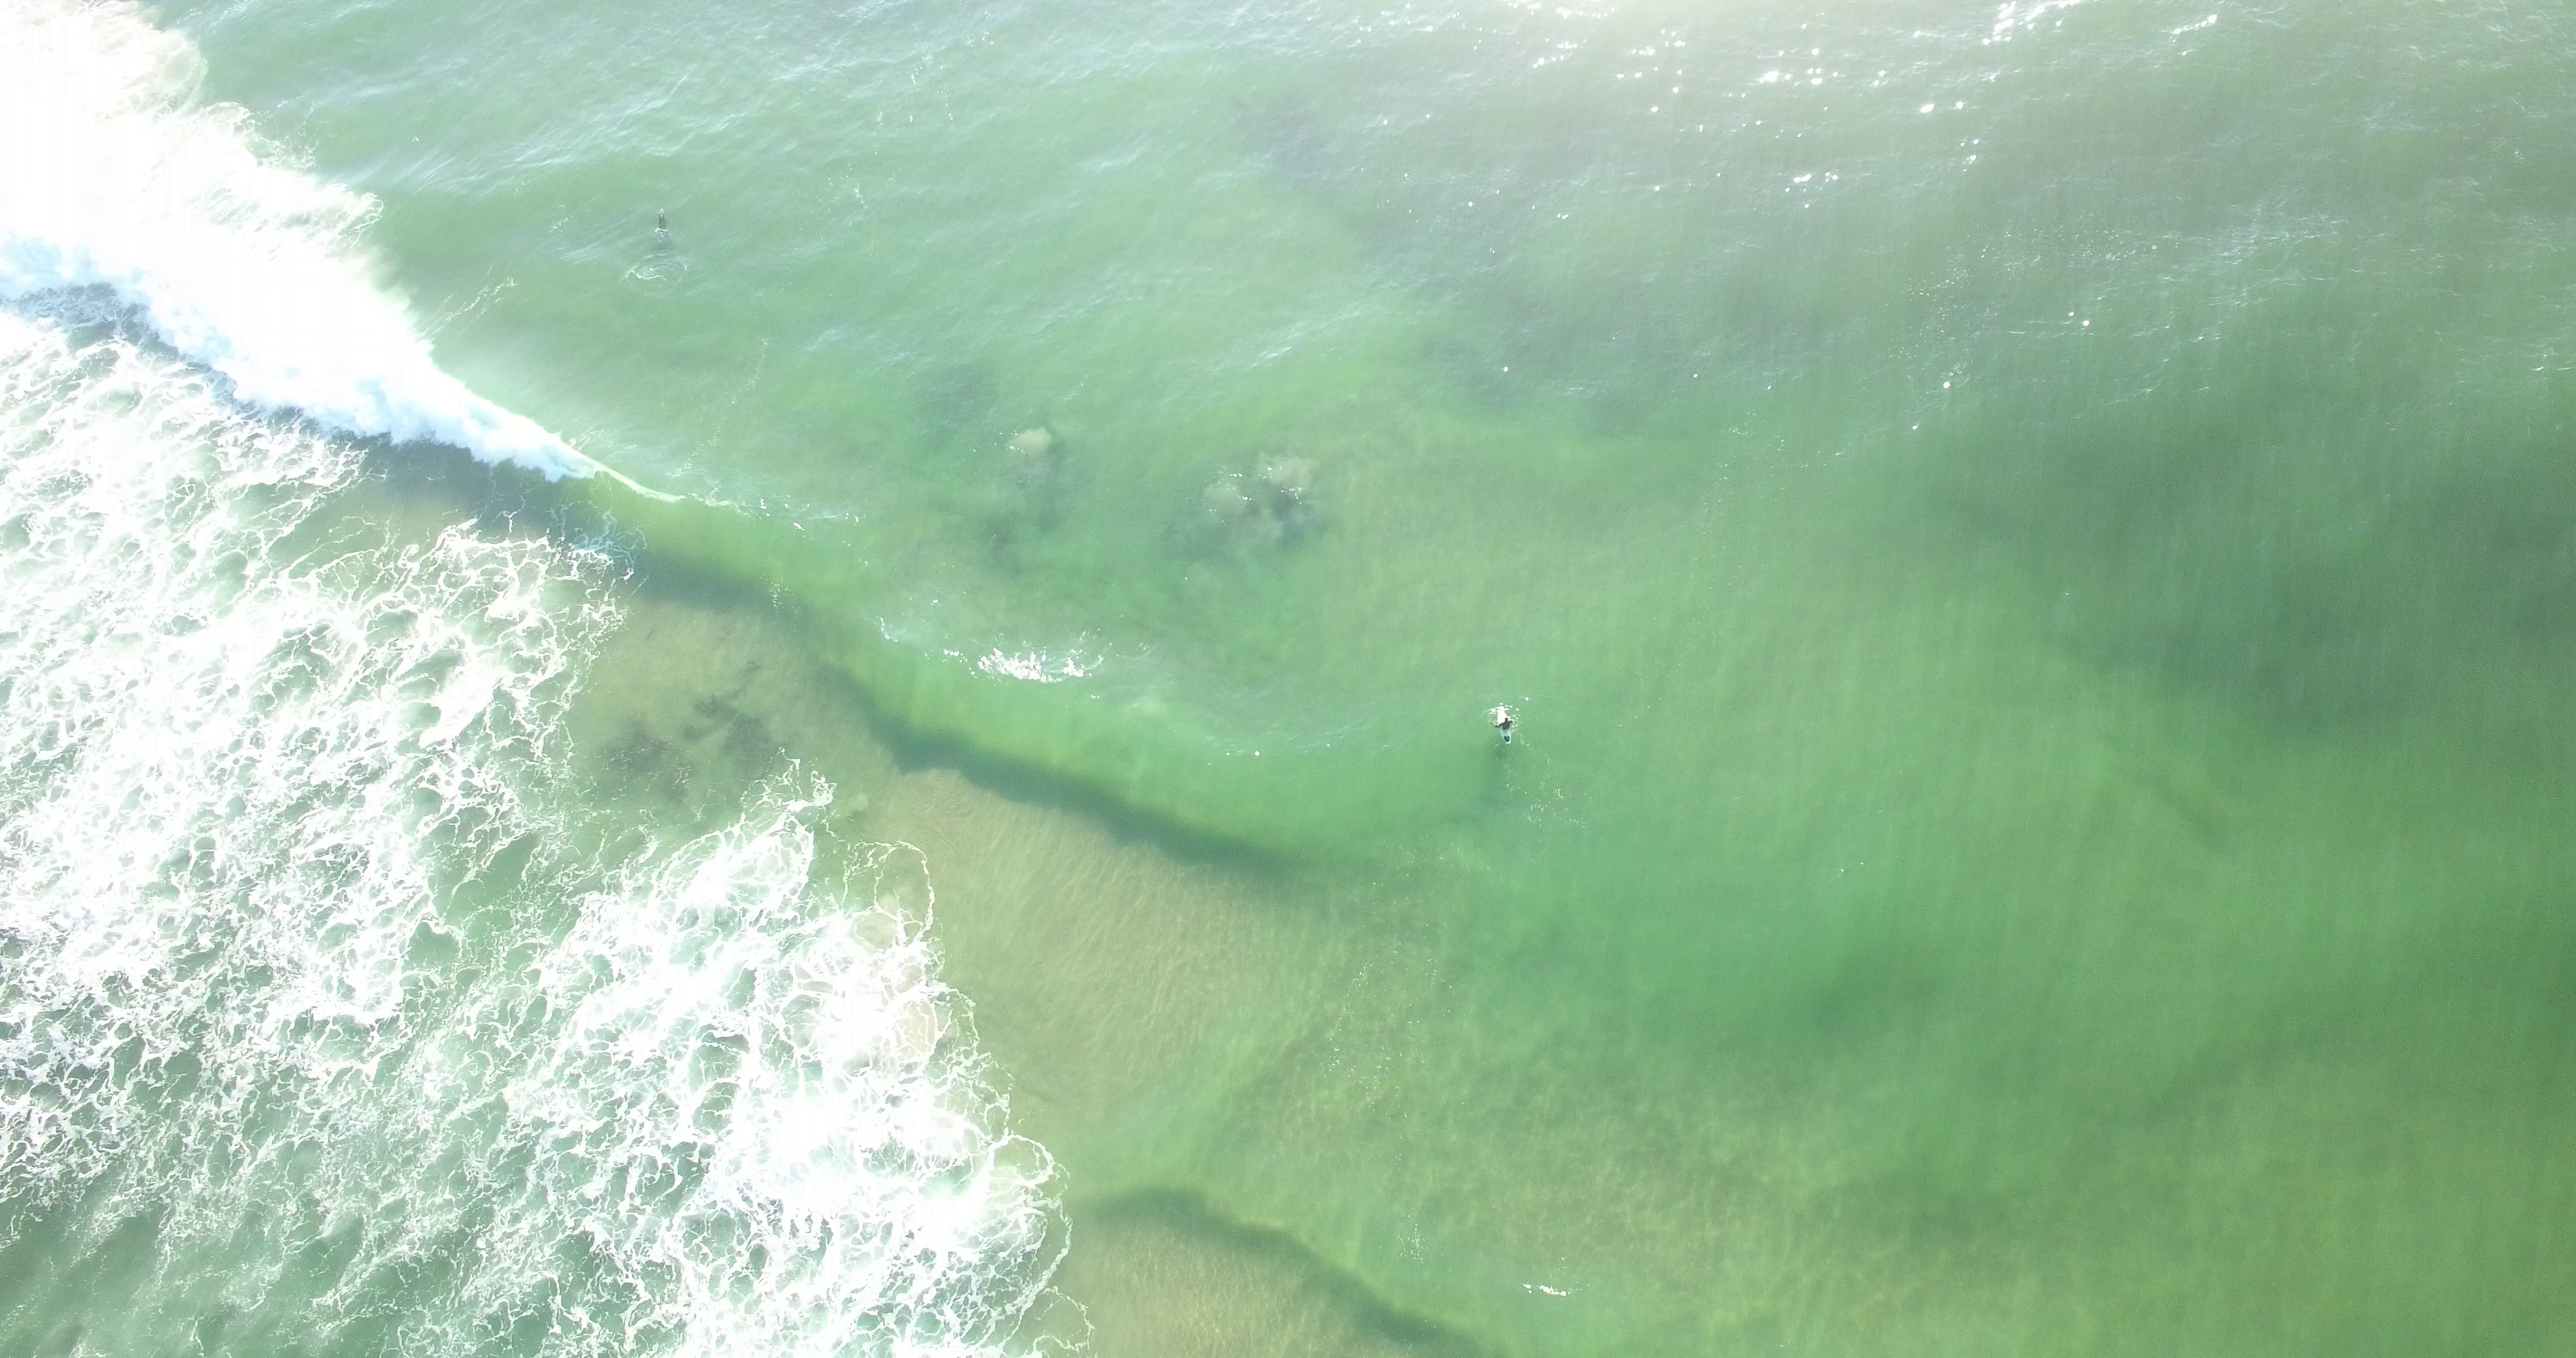dolphin: (653, 206, 671, 244)
surfer: (1491, 704, 1516, 745)
